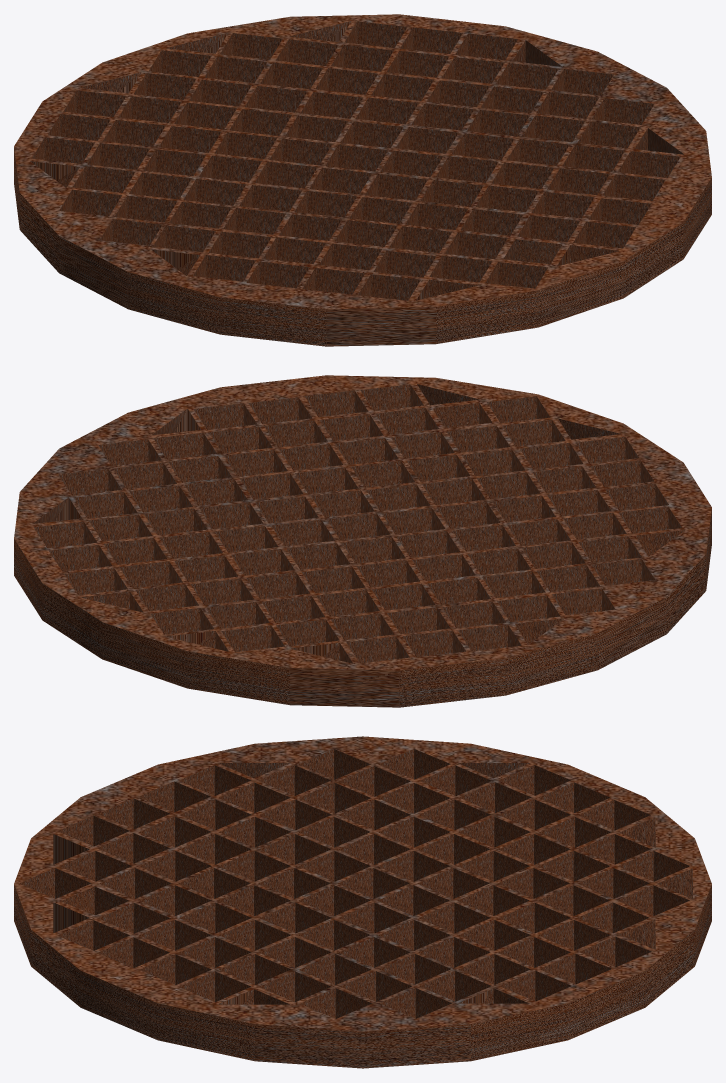
The model's file is gratetextured.fbx.
3 renders of one model, top to bottom at view 1: azimuth 30°, elevation 25°; view 2: azimuth 150°, elevation 25°; view 3: azimuth 270°, elevation 25°, orthographic.
Parts seen in each view (by area): view 1: pCylinder22; view 2: pCylinder22; view 3: pCylinder22.
Boxes of the visible parts, box(x1,y1,x2,y2) form: pCylinder22: box(14, 14, 711, 346); pCylinder22: box(14, 375, 711, 707); pCylinder22: box(14, 736, 711, 1068).
Size of the model in its own units: 2 by 0.1174 by 2.
